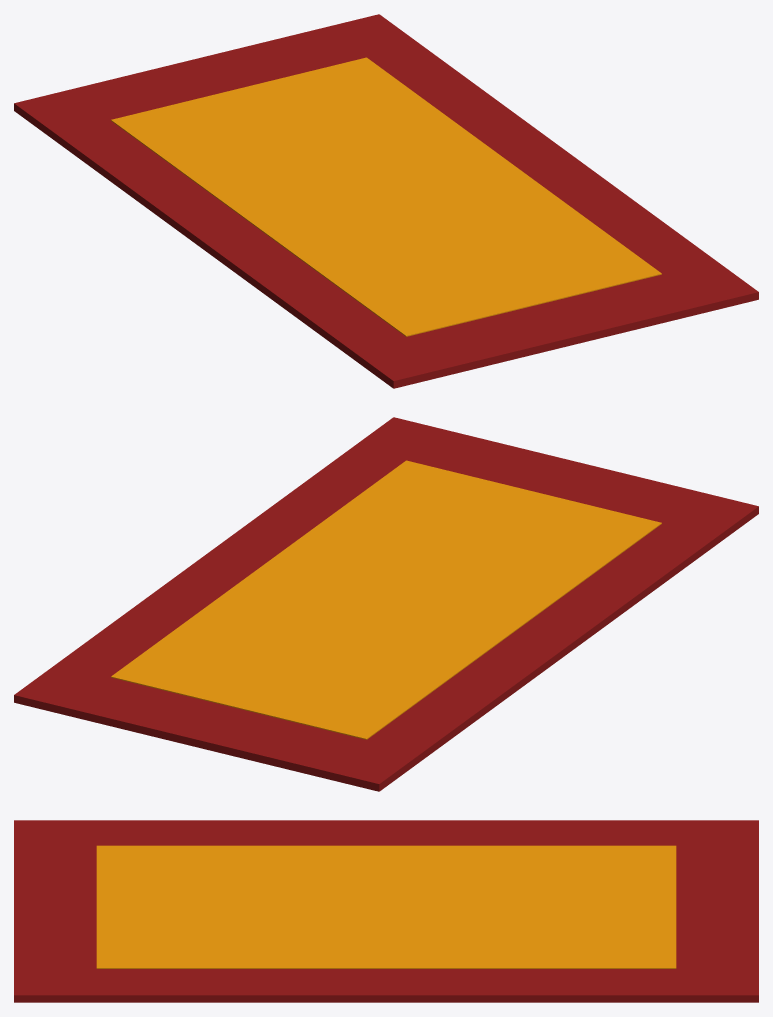
The model's file is magic_carpet.glb.
3 renders of one model, top to bottom at view 1: azimuth 30°, elevation 25°; view 2: azimuth 150°, elevation 25°; view 3: azimuth 270°, elevation 25°, orthographic.
Bounding box in the file's own units: 0.5556 × 0.0139 × 1.
